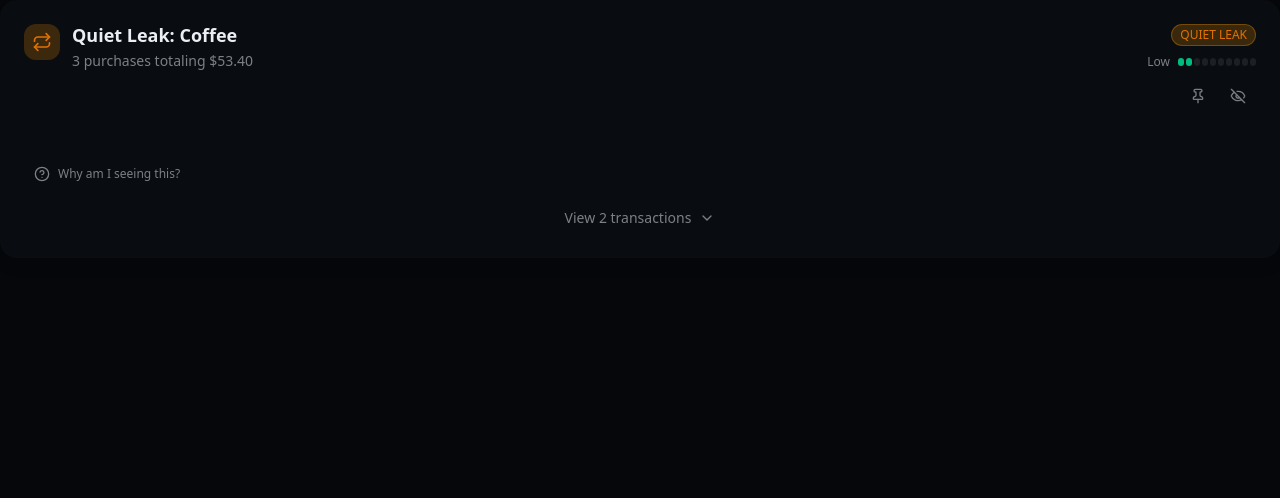
Test: InsightCard › Why am I seeing this? explainability › can collapse explanation after expanding
Click the button "Why am I seeing this?" at (107, 174), box [24,158,190,190]
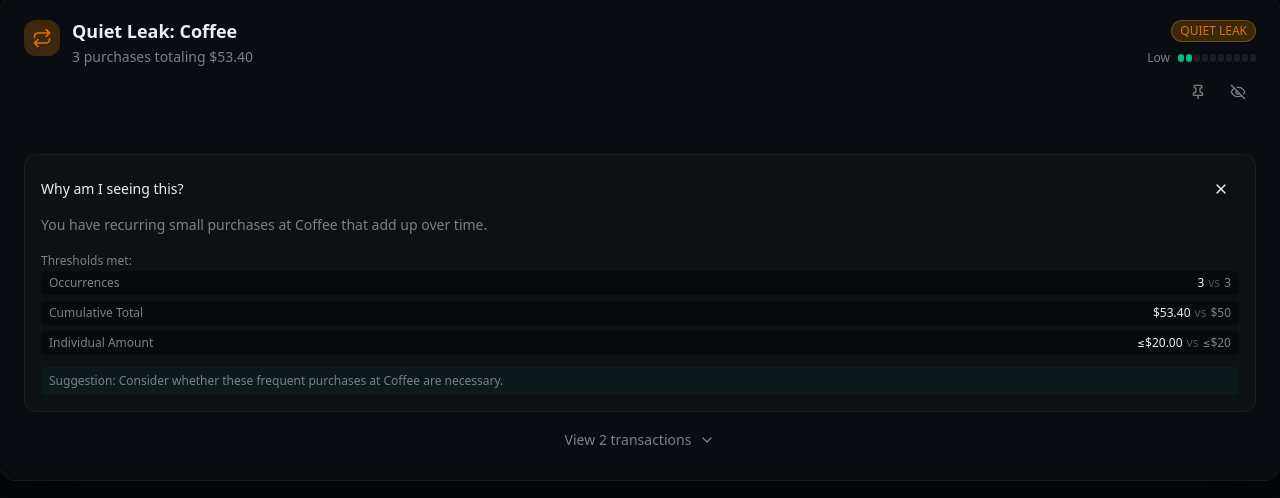
Expected: the text "recurring small purchases" is shown, [41,215,487,234]
Click the button named "hide explanation" at (1221, 189), box [1203,171,1239,207]
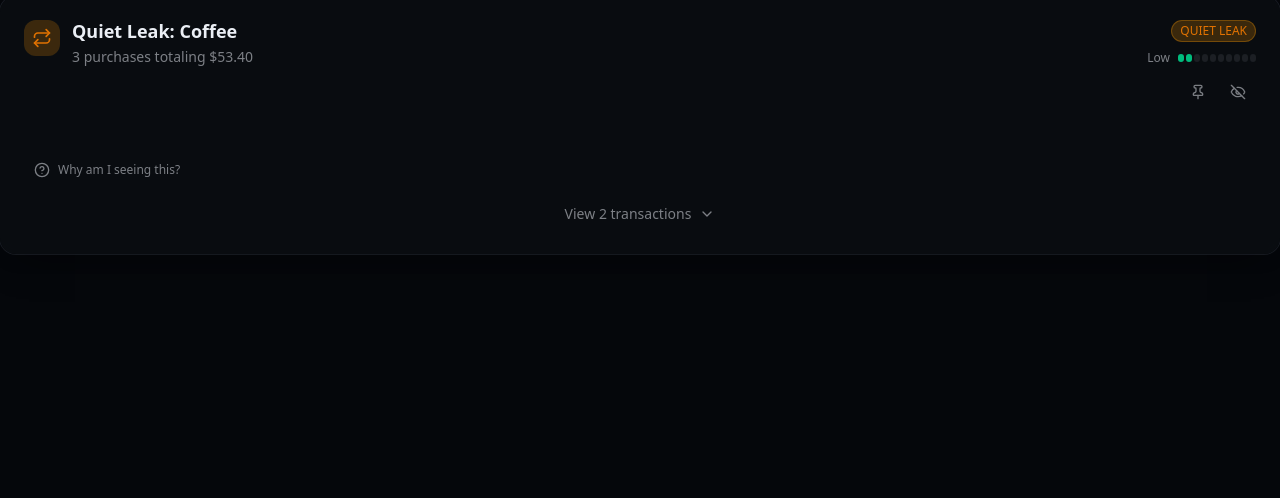
Expected: the text "recurring small purchases" is gone
